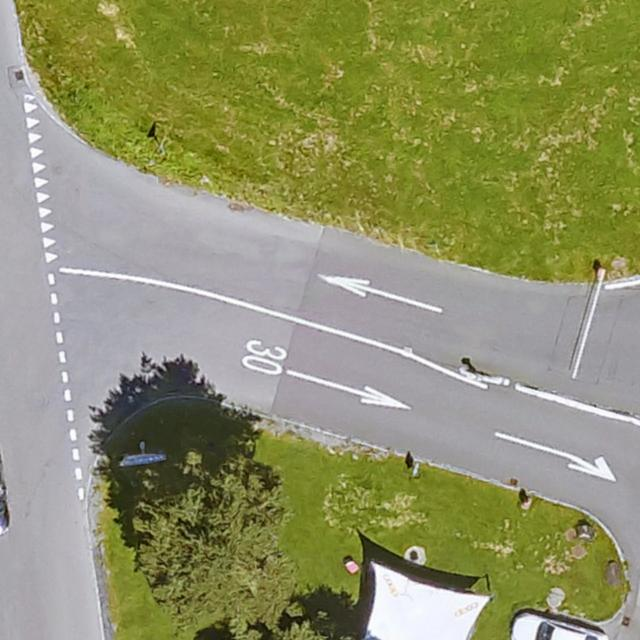tree: (135, 457, 287, 622), (227, 616, 327, 640)
